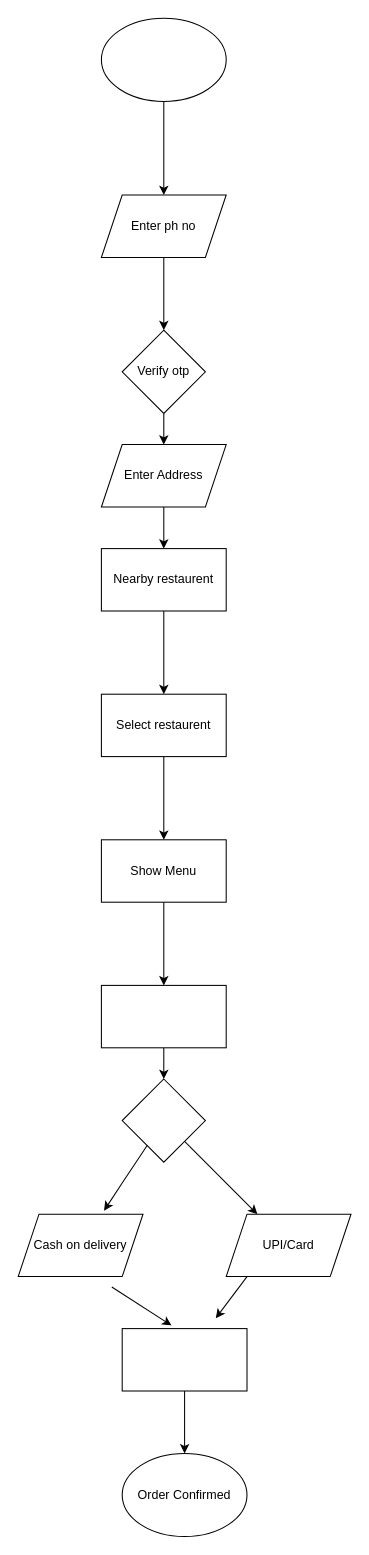
Some shapes in this 369 by 1555 pixel diagram are drawn without their labels. Each missing label, with the centre of its shape:
Add to Cart: the point at 163,1016
Choose payment: the point at 163,1120
Open: the point at 163,59
Place order: the point at 184,1359
